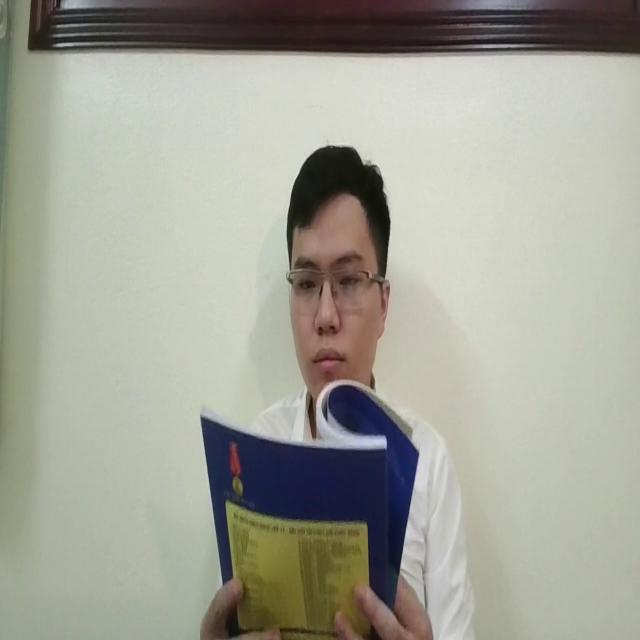book: (198, 379, 422, 640)
student: (239, 141, 479, 640)
